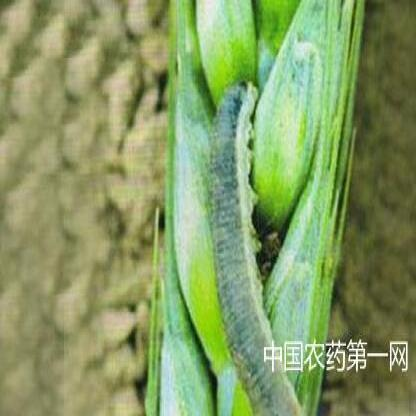sawfly: (205, 67, 323, 416)
